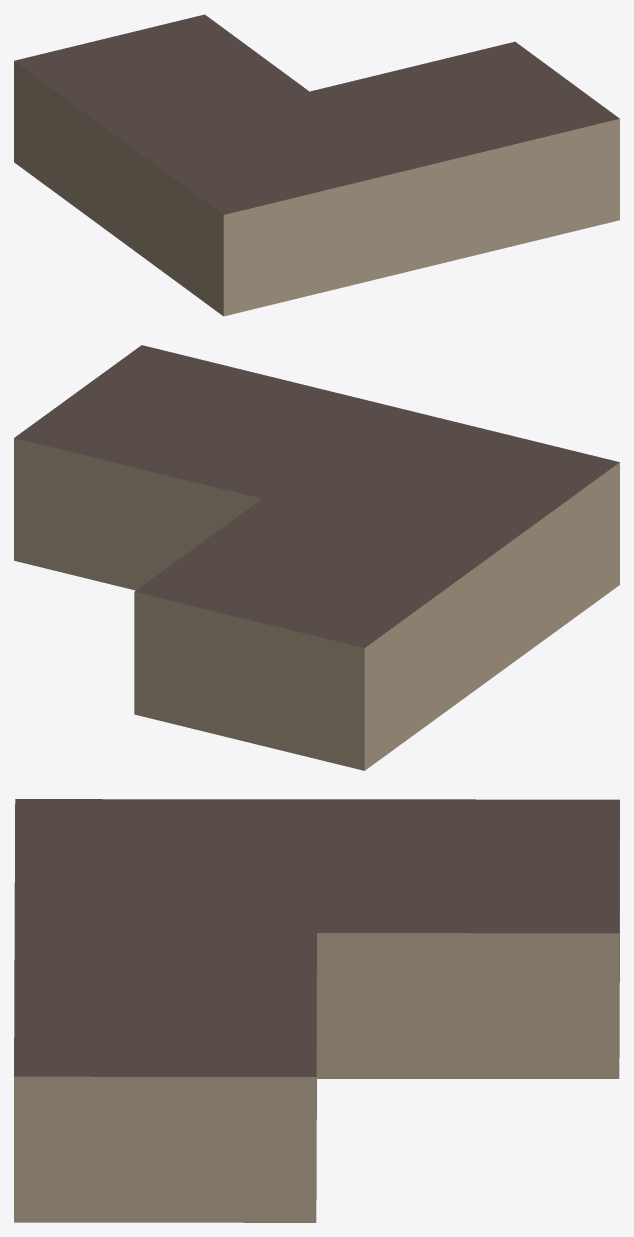
The picture shows the model from 3 angles, top to bottom: view 1: azimuth 30°, elevation 25°; view 2: azimuth 150°, elevation 25°; view 3: azimuth 270°, elevation 25°; orthographic projection. The views are drawn at different scales.
Visible parts, largest first — view 1: HP-w494393081; view 2: HP-w494393081; view 3: HP-w494393081.
Part boxes in pixels (left/top/right/bottom): HP-w494393081: left=14, top=14, right=619, bottom=316; HP-w494393081: left=14, top=345, right=619, bottom=770; HP-w494393081: left=14, top=799, right=619, bottom=1222.
Bounding box in the file's own units: 24.53 × 6 × 22.6.
